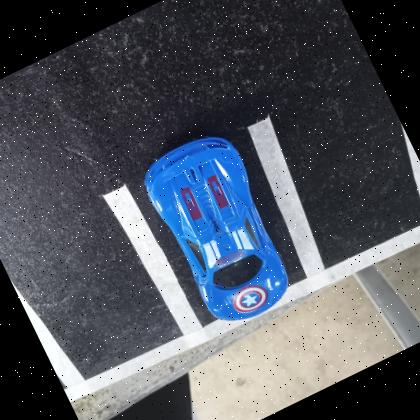Car: (134, 122, 307, 336)
